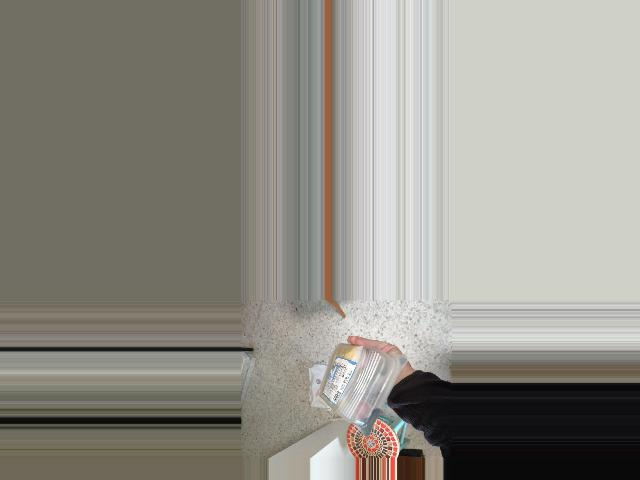cheese: (301, 345, 407, 441)
